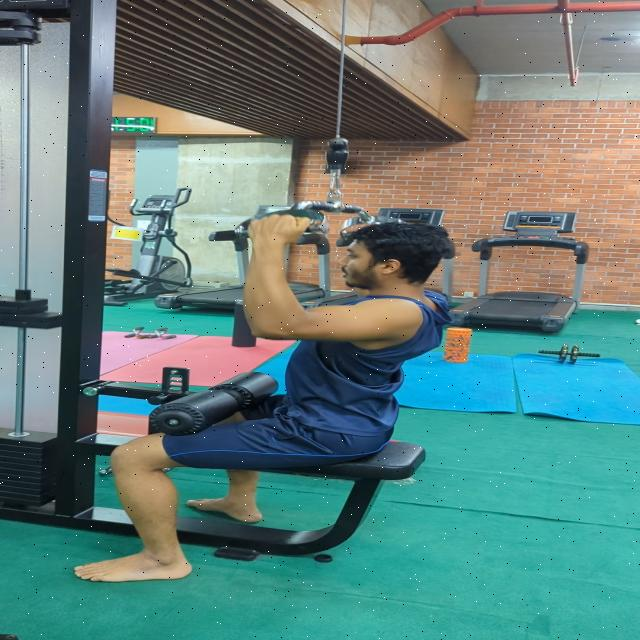Normal_LatPulldown: (53, 205, 468, 587)
